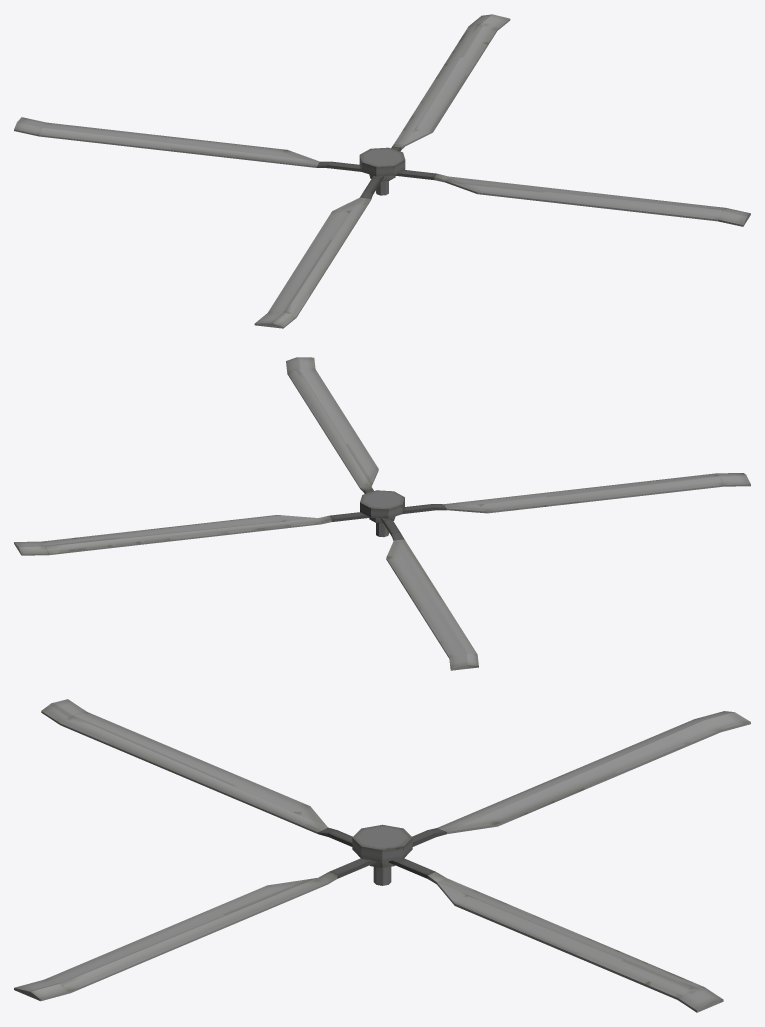
The model's file is propeller.fbx.
3 renders of one model, top to bottom at view 1: azimuth 30°, elevation 25°; view 2: azimuth 150°, elevation 25°; view 3: azimuth 270°, elevation 25°, orthographic. The views are drawn at different scales.
Parts seen in each view (by area): view 1: Propeller; view 2: Propeller; view 3: Propeller.
Part boxes in pixels (x1,y1,x2,y2): Propeller: (14,14,750,328); Propeller: (14,357,750,670); Propeller: (14,699,750,1012).
Bounding box in the file's own units: 1.5 × 0.1004 × 1.5.
Materials: 1 (1 with a texture image).
